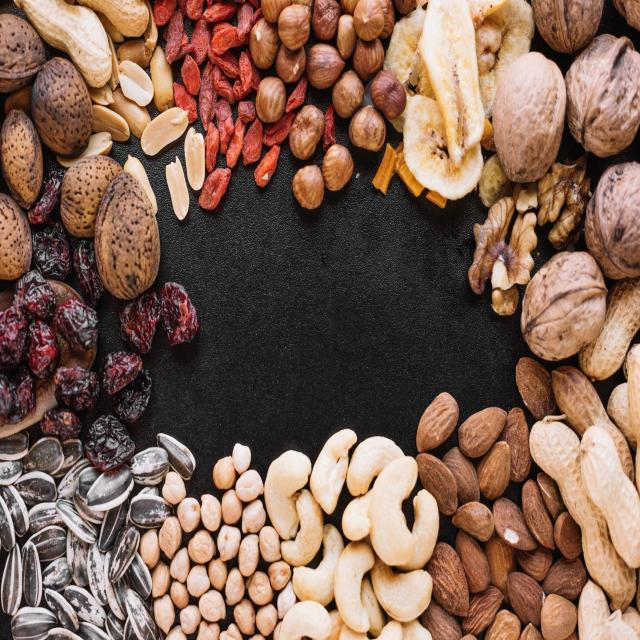Frutta secca: (0, 14, 164, 298), (502, 9, 640, 343), (4, 263, 208, 454), (519, 345, 640, 640), (428, 408, 580, 640), (1, 442, 176, 638), (262, 12, 412, 227), (270, 449, 431, 640), (145, 483, 273, 640)
